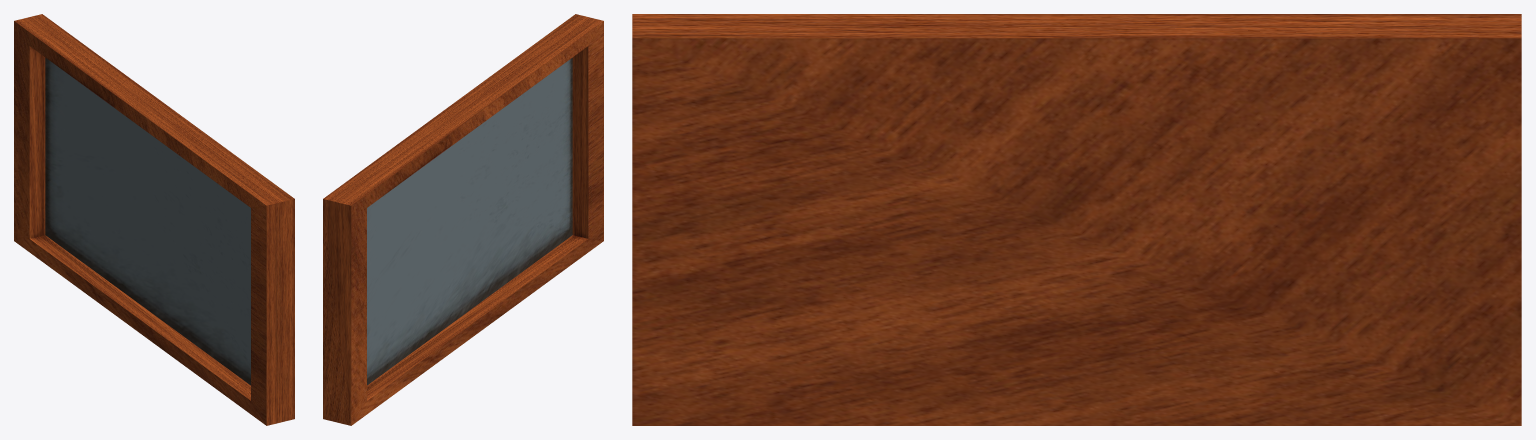
The model's file is mirror.glb.
3 renders of one model, left to right at view 1: azimuth 30°, elevation 25°; view 2: azimuth 150°, elevation 25°; view 3: azimuth 270°, elevation 25°, orthographic. The views are drawn at different scales.
Visible parts, largest first — view 1: Object_2, Object_3; view 2: Object_2, Object_3; view 3: Object_3.
Part boxes in pixels (left/top/right/bottom): Object_2: left=45, top=58, right=250, bottom=385; Object_3: left=14, top=14, right=294, bottom=425; Object_2: left=367, top=58, right=572, bottom=385; Object_3: left=323, top=14, right=603, bottom=425; Object_3: left=632, top=14, right=1521, bottom=425.
Size of the model in its own units: 0.1422 by 1.06 by 2.2.
Materials: 2 (2 with a texture image).
